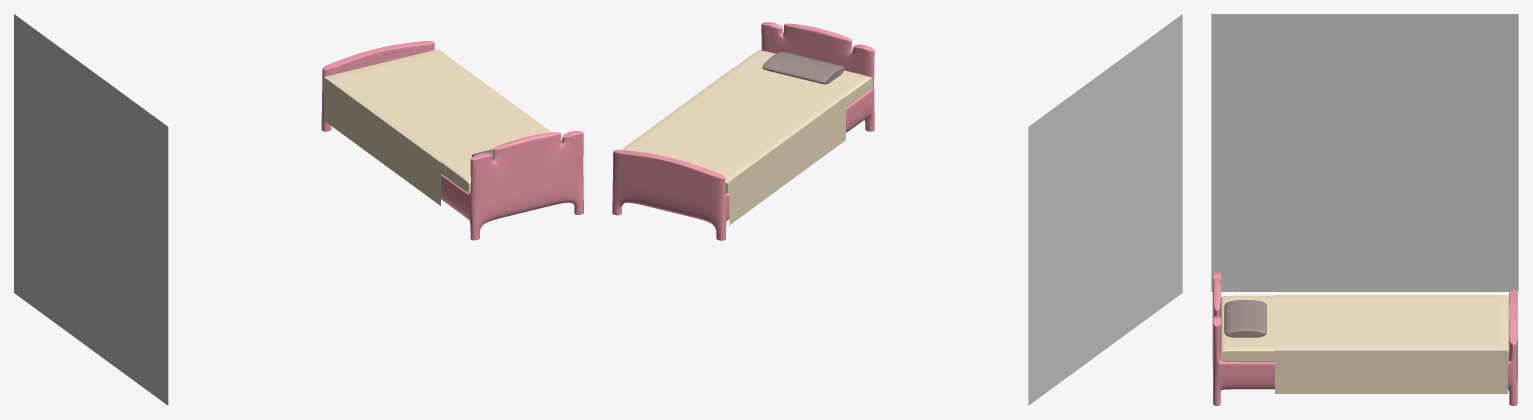
The model's file is giuong.fbx.
3 views of the same model, side by side, from view 1: azimuth 30°, elevation 25°; view 2: azimuth 150°, elevation 25°; view 3: azimuth 270°, elevation 25° (orthographic).
Visible parts, largest first — view 1: 78144960_3082834488412864_7237178803254984704_o, Cube, Cube.001, Cube.003; view 2: 78144960_3082834488412864_7237178803254984704_o, Cube, Cube.001, Cube.003, Cube.002; view 3: 78144960_3082834488412864_7237178803254984704_o, Cube, Cube.003, Cube.001, Cube.002.
Boxes of the visible parts, left/top/right/bottom form: 78144960_3082834488412864_7237178803254984704_o: left=14, top=14, right=168, bottom=405; Cube: left=329, top=51, right=561, bottom=193; Cube.001: left=321, top=41, right=583, bottom=240; Cube.003: left=324, top=49, right=551, bottom=205; 78144960_3082834488412864_7237178803254984704_o: left=1028, top=14, right=1182, bottom=405; Cube: left=623, top=50, right=872, bottom=193; Cube.001: left=612, top=22, right=874, bottom=240; Cube.003: left=621, top=68, right=845, bottom=224; Cube.002: left=762, top=52, right=844, bottom=84; 78144960_3082834488412864_7237178803254984704_o: left=1211, top=14, right=1518, bottom=291; Cube: left=1221, top=295, right=1508, bottom=362; Cube.003: left=1275, top=295, right=1507, bottom=393; Cube.001: left=1212, top=271, right=1517, bottom=405; Cube.002: left=1224, top=300, right=1266, bottom=337.
Size of the model in its own units: 2139 by 1362 by 1365.
